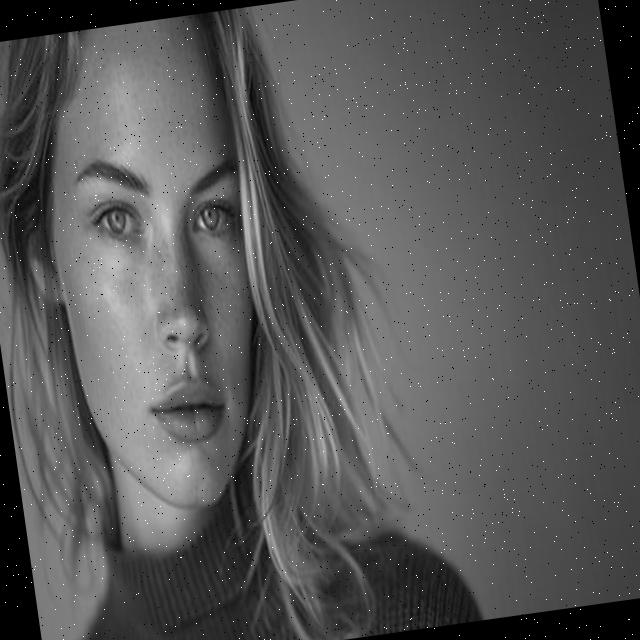Neutral: (27, 11, 288, 521)
